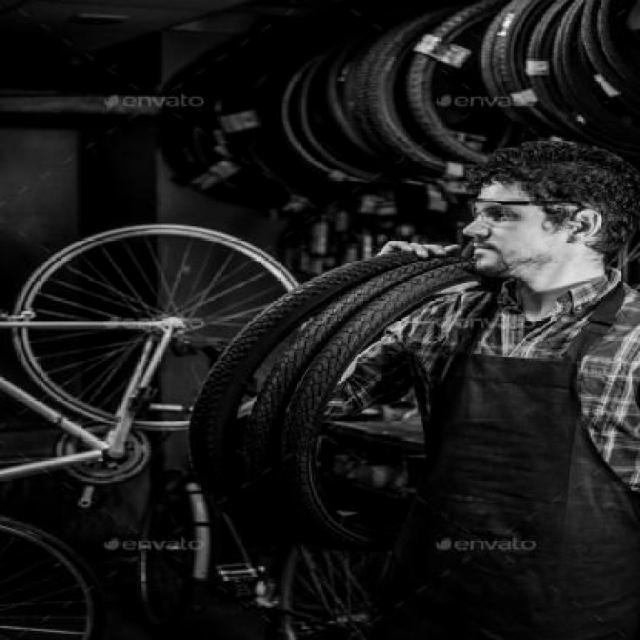face_nomask: (460, 198, 526, 273)
glasses: (467, 197, 596, 228)
head_nohelmet: (460, 137, 640, 203)
person: (388, 126, 640, 640)
